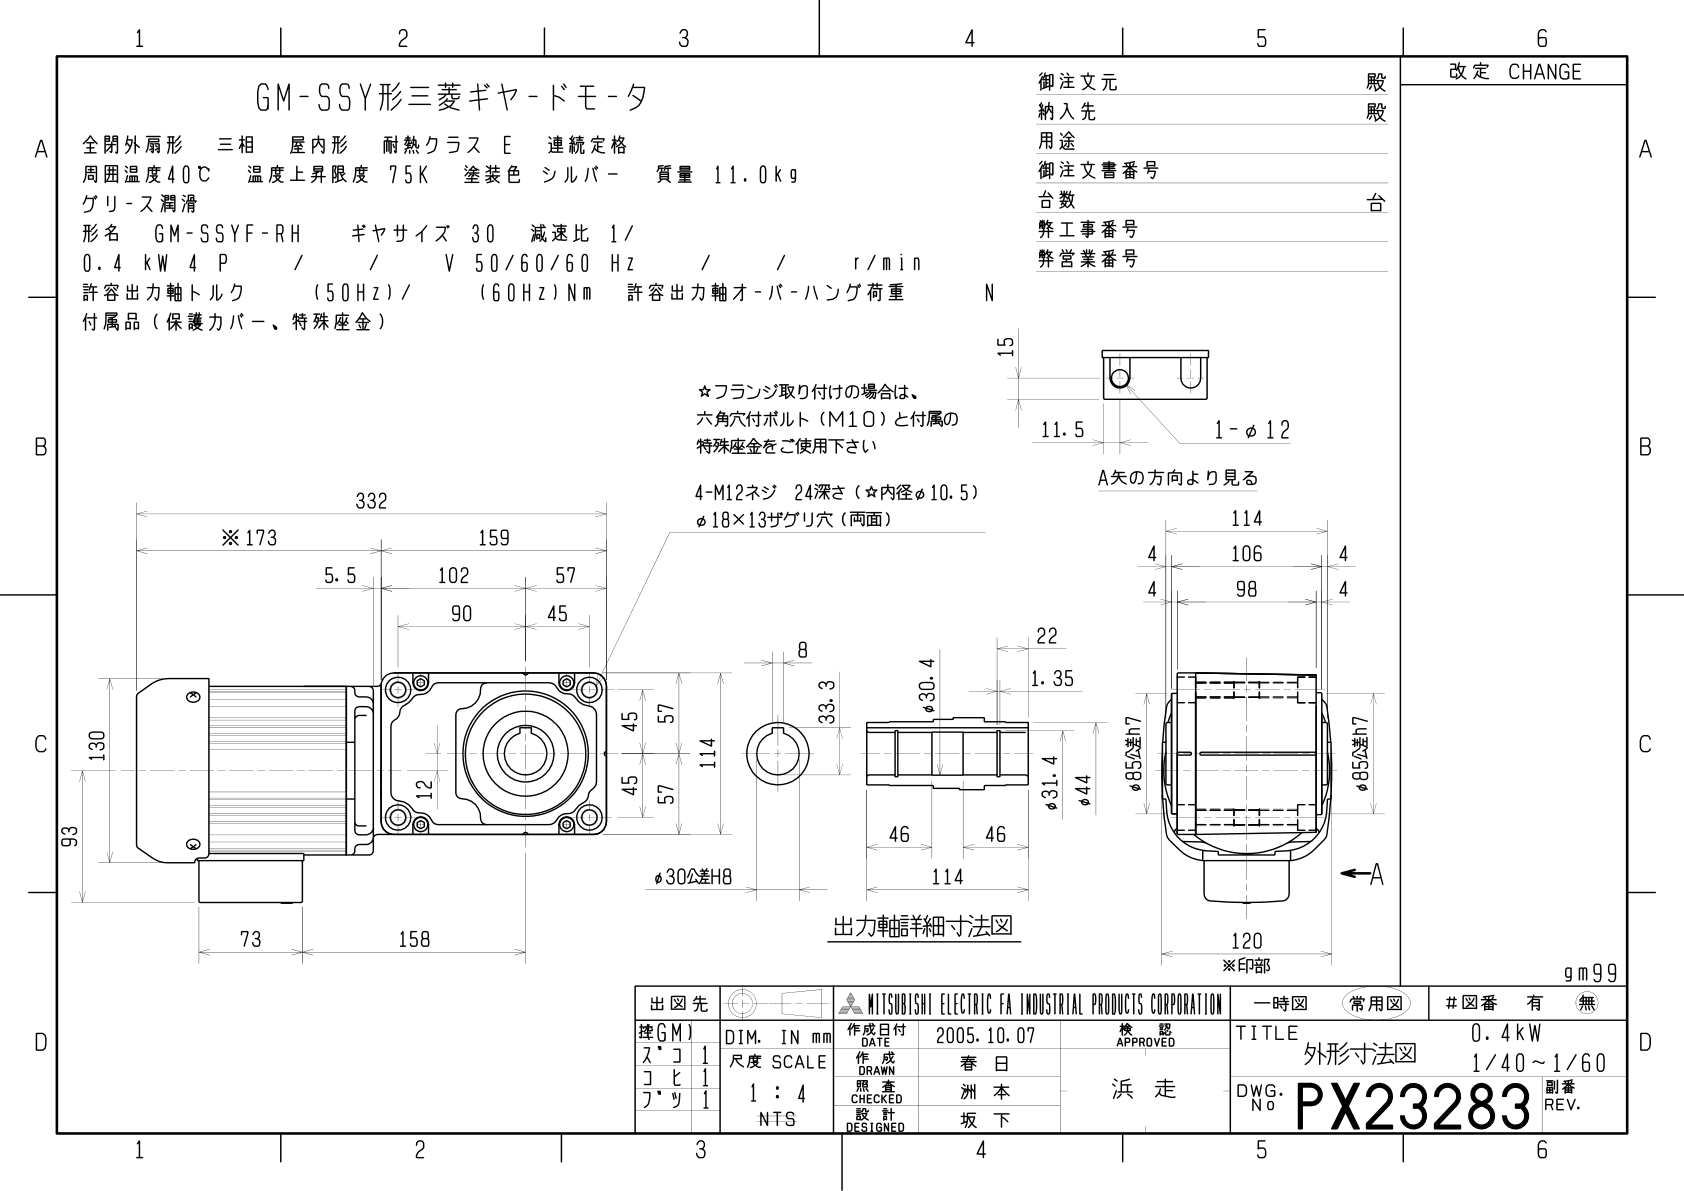GM_SSY_屋内_三相: (52, 324, 1397, 982)
